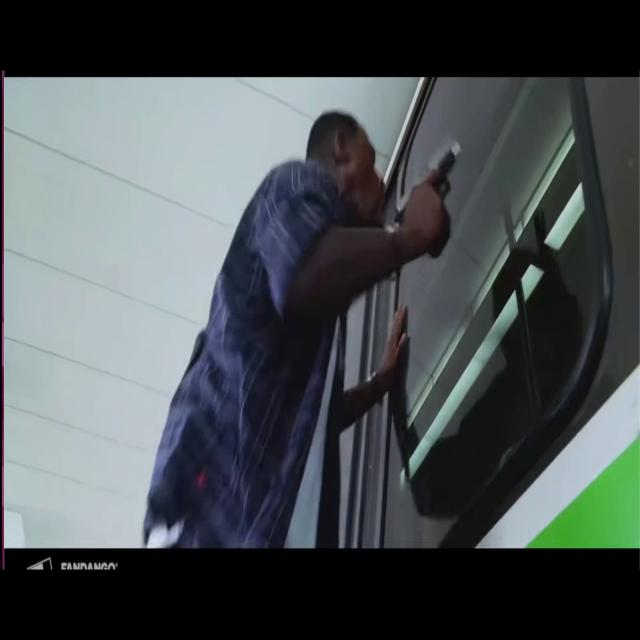weapons: (396, 123, 465, 264)
